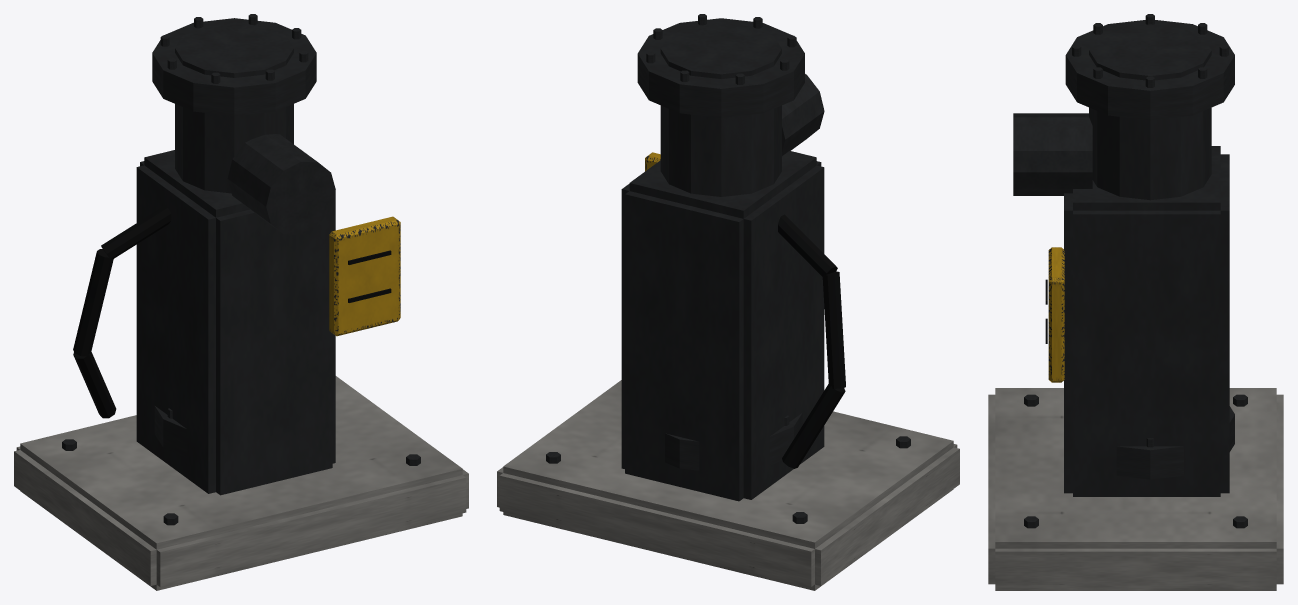
Rendered from HarborValveBase.fbx.
3 views of the same model, side by side, from view 1: azimuth 30°, elevation 25°; view 2: azimuth 150°, elevation 25°; view 3: azimuth 270°, elevation 25° (orthographic). The views are drawn at different scales.
Visible parts, largest first — view 1: HarborValveBase.001; view 2: HarborValveBase.001; view 3: HarborValveBase.001.
Boxes of the visible parts, x1,y1,x2,y2 form: HarborValveBase.001: (14,14,468,590); HarborValveBase.001: (497,14,959,590); HarborValveBase.001: (988,14,1283,590).
Bounding box in the file's own units: 1.05 × 1.43 × 0.82.
